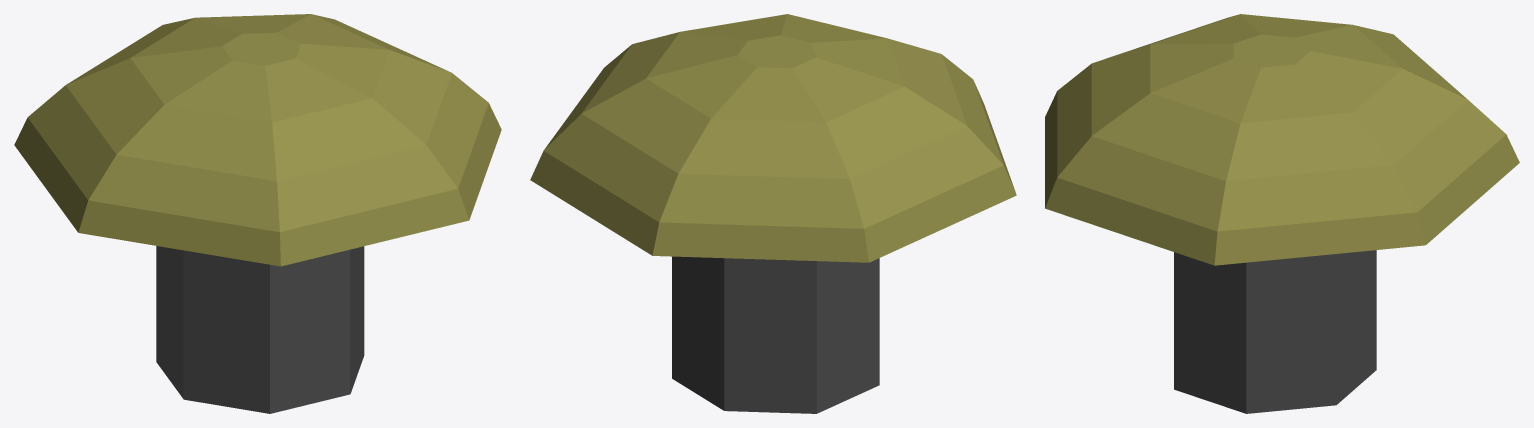
File: MushroomYellow.fbx
3 renders of one model, left to right at view 1: azimuth 30°, elevation 25°; view 2: azimuth 150°, elevation 25°; view 3: azimuth 270°, elevation 25°, orthographic.
Parts seen in each view (by area): view 1: Cylinder; view 2: Cylinder; view 3: Cylinder.
Boxes of the visible parts, x1=… form: Cylinder: x1=14, y1=14, x2=501, y2=413; Cylinder: x1=530, y1=14, x2=1016, y2=413; Cylinder: x1=1045, y1=14, x2=1519, y2=413.
Size of the model in its own units: 45.74 by 33.05 by 44.59.
